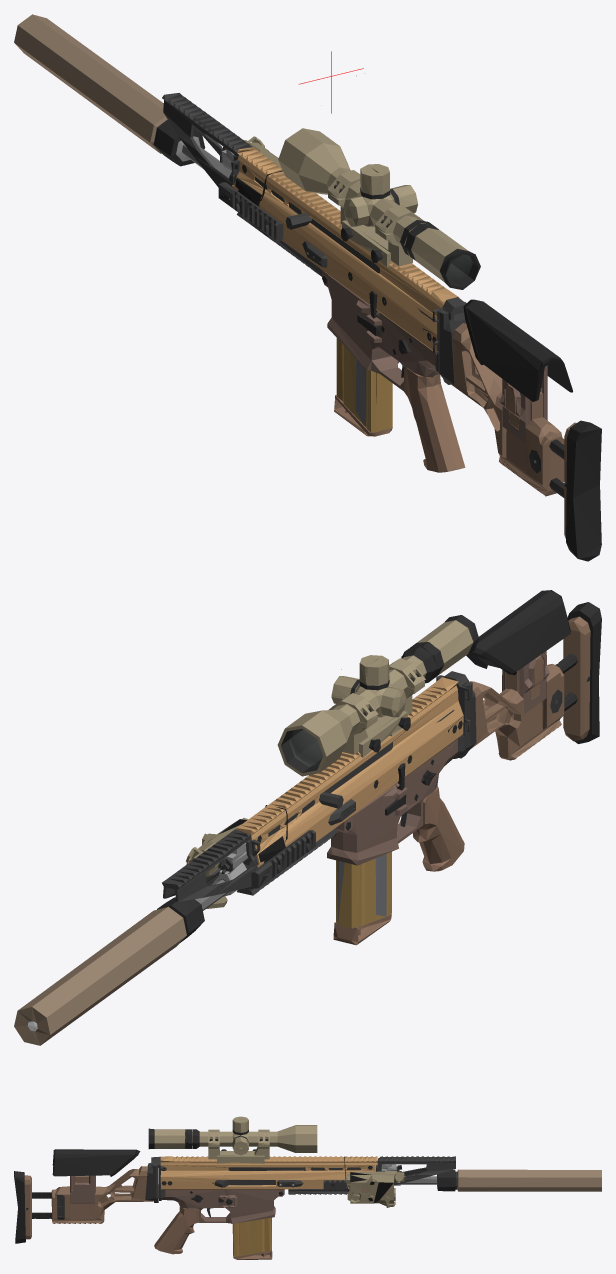
File: zz_scar.glb
The picture shows the model from 3 angles, top to bottom: view 1: azimuth 30°, elevation 25°; view 2: azimuth 150°, elevation 25°; view 3: azimuth 270°, elevation 25°; orthographic projection. The views are drawn at different scales.
Visible parts, largest first — view 1: Oriented; view 2: Oriented; view 3: Oriented.
Boxes of the visible parts, x1=… form: Oriented: x1=14, y1=14, x2=601, y2=561; Oriented: x1=14, y1=590, x2=601, y2=1045; Oriented: x1=14, y1=1116, x2=601, y2=1259.
Bounding box in the file's own units: 0.0775 × 0.3295 × 0.9598.
